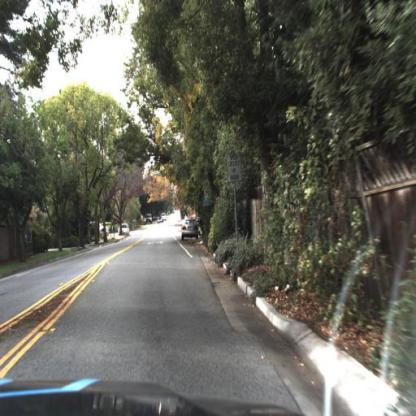car: (181, 216, 203, 244), (181, 216, 200, 243)
